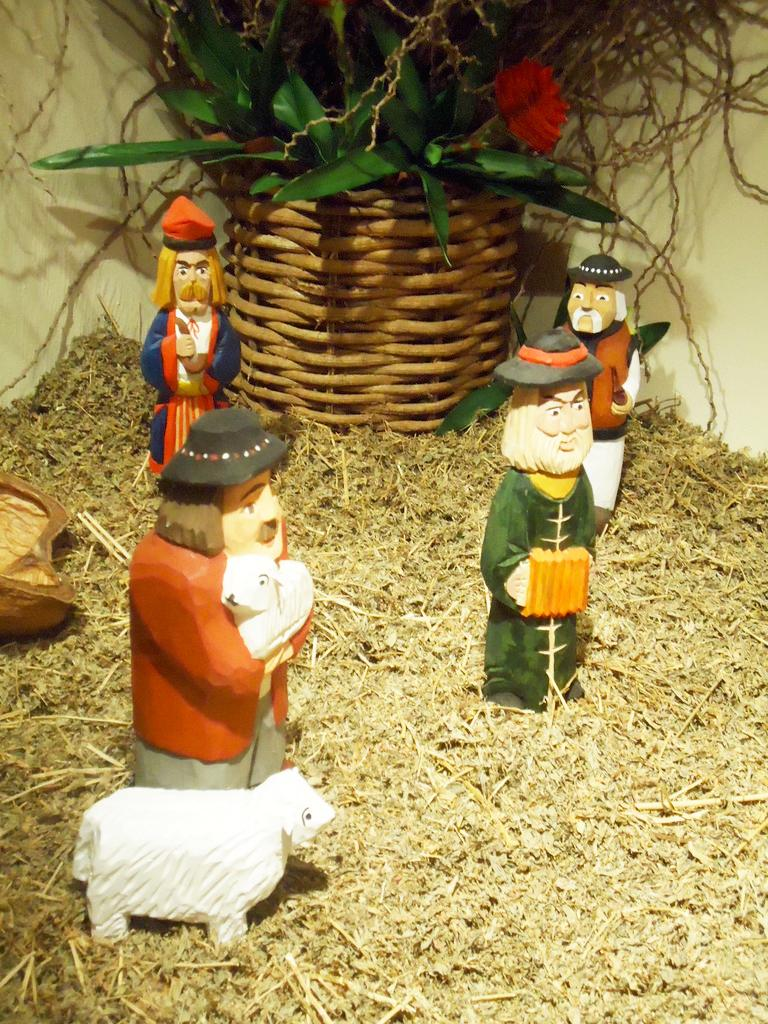Sheep: (72, 766, 336, 946), (220, 554, 314, 660)
